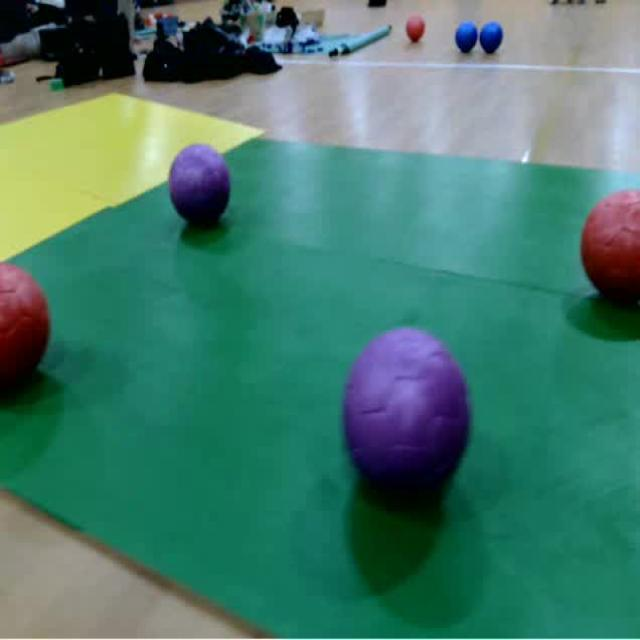purple_ball: (336, 325, 471, 500), (168, 140, 232, 231)
red_ball: (0, 261, 50, 403), (582, 189, 640, 309)
